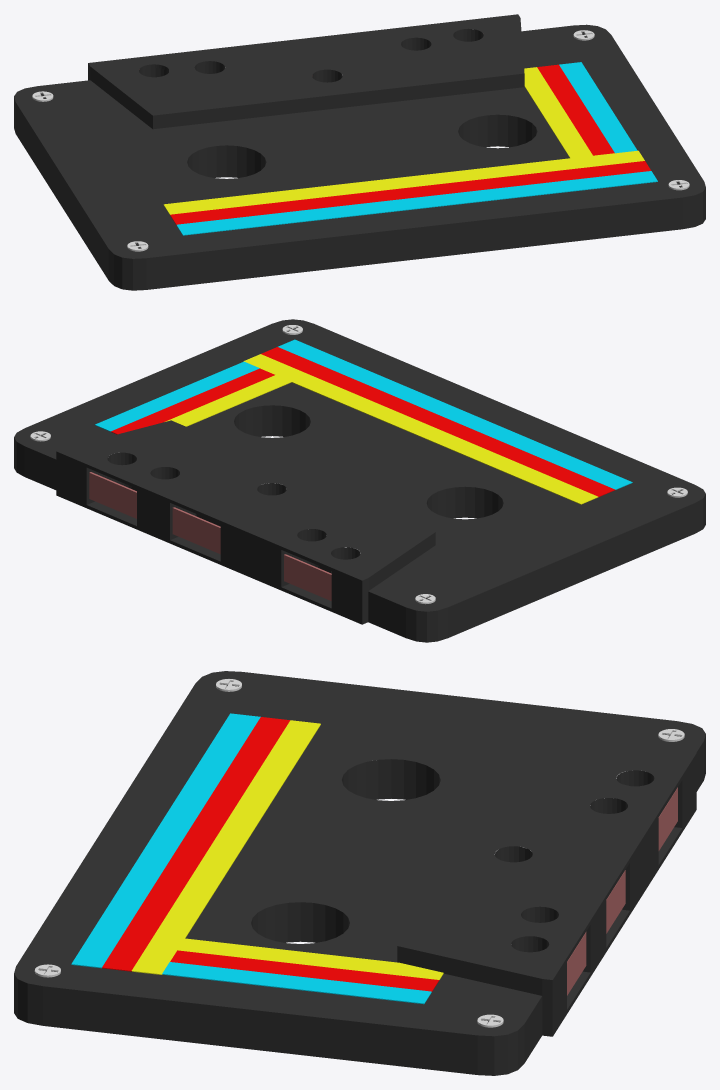
3 renders of one model, top to bottom at view 1: azimuth 30°, elevation 25°; view 2: azimuth 150°, elevation 25°; view 3: azimuth 270°, elevation 25°, orthographic. The views are drawn at different scales.
Parts seen in each view (by area): view 1: Box015, Box017, Box013, Box011, Cylinder005; view 2: Box015, Box017, Box011, Box013, Box012, Cylinder005; view 3: Box015, Box017, Box013, Box011, Box012, Cylinder005.
Part boxes in pixels (left/top/right/bottom): Box015: left=14, top=14, right=705, bottom=290; Box017: left=176, top=62, right=657, bottom=235; Box013: left=163, top=67, right=644, bottom=214; Box011: left=170, top=64, right=651, bottom=224; Cylinder005: left=32, top=30, right=689, bottom=251; Box015: left=14, top=319, right=705, bottom=642; Box017: left=95, top=339, right=632, bottom=489; Box011: left=111, top=347, right=615, bottom=497; Box013: left=165, top=354, right=598, bottom=504; Box012: left=89, top=472, right=331, bottom=600; Cylinder005: left=30, top=325, right=687, bottom=604; Box015: left=14, top=671, right=705, bottom=1075; Box017: left=71, top=713, right=431, bottom=1004; Box013: left=131, top=720, right=443, bottom=979; Box011: left=102, top=717, right=439, bottom=991; Box012: left=567, top=787, right=677, bottom=995; Cylinder005: left=34, top=679, right=684, bottom=1027.
Bounding box in the file's own units: 13.81 × 0.9999 × 11.06.
